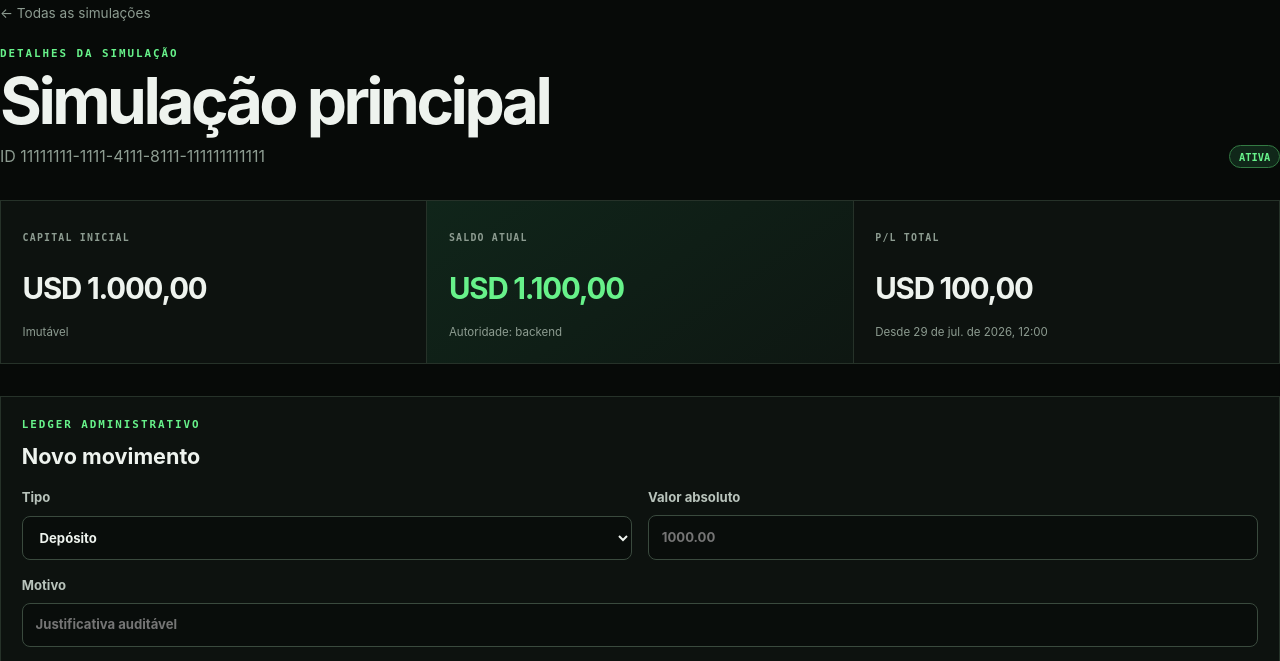
it: movimentos e encerramento › mostra erro claro para saldo insuficiente
The image size is (1280, 661).
Expected: the heading "Novo movimento" is shown, left=22, top=440, right=200, bottom=472
Select "Retirada" in the dropdown labelled "Tipo" at coordinates (327, 538), box left=22, top=516, right=632, bottom=560
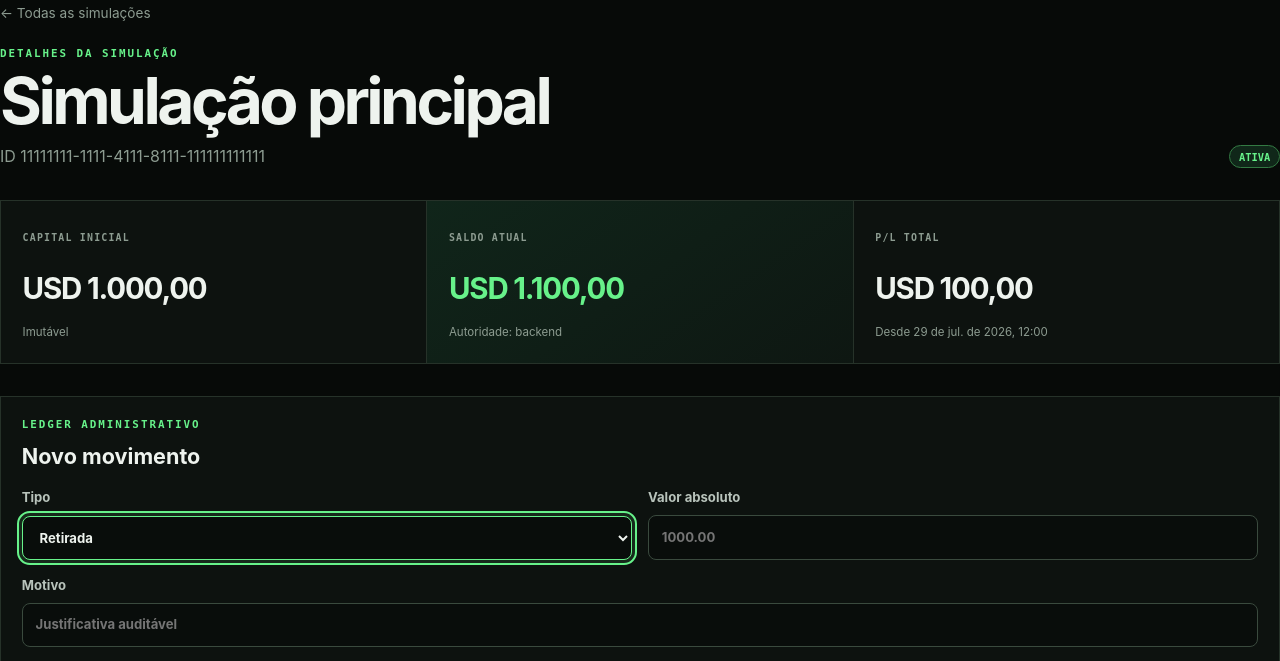
Type "9999" into the field labelled "Valor absoluto" at coordinates (953, 537), box left=648, top=515, right=1258, bottom=560
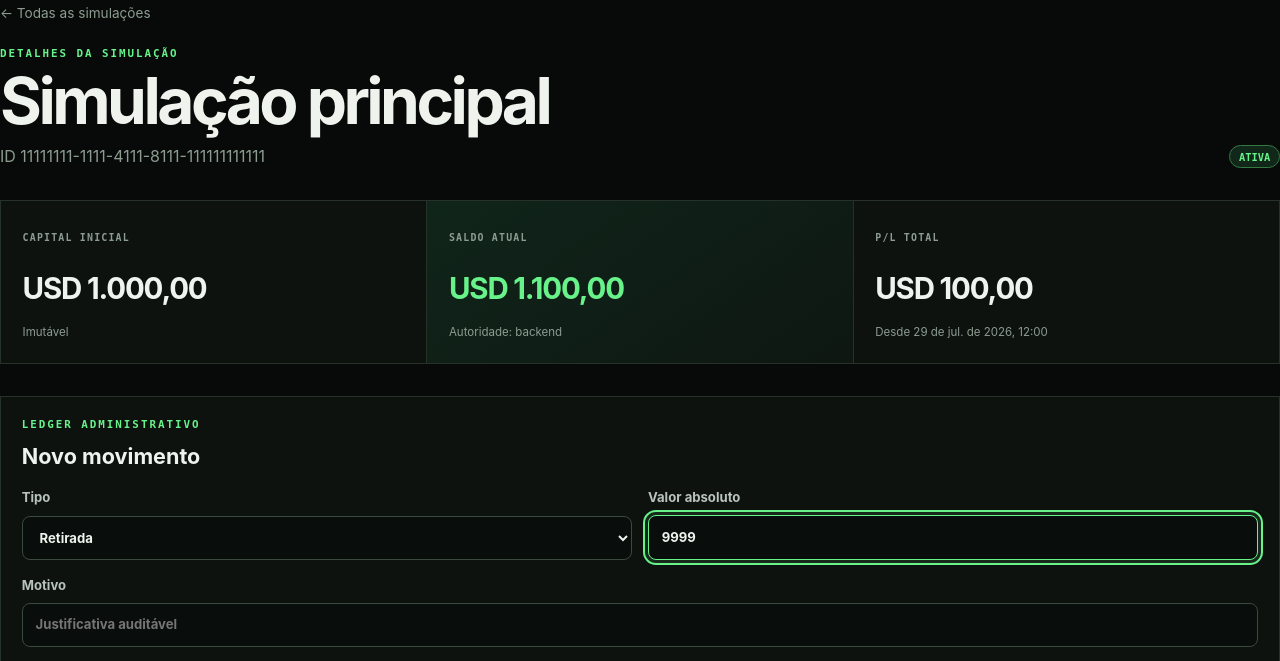
Type "Teste administrativo" into the field labelled "Motivo" at coordinates (640, 625), box left=22, top=603, right=1258, bottom=647
(page scrolled)
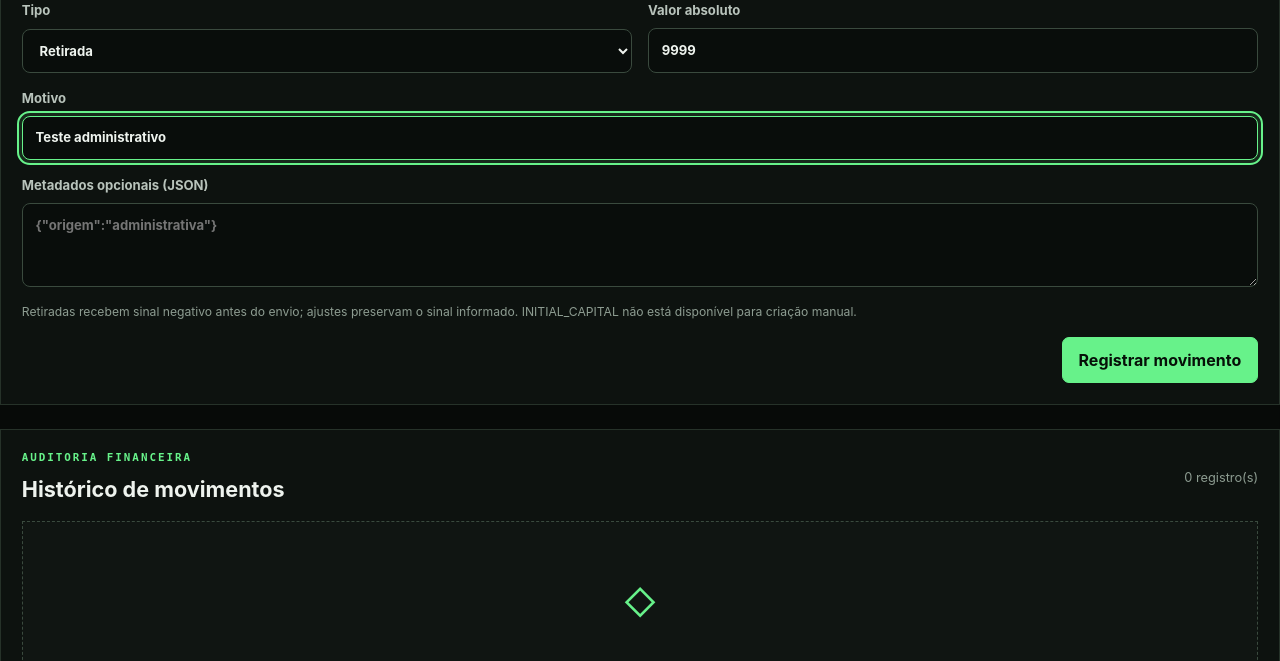
Click the button "Registrar movimento" at coordinates (1160, 360), box left=1062, top=337, right=1258, bottom=383
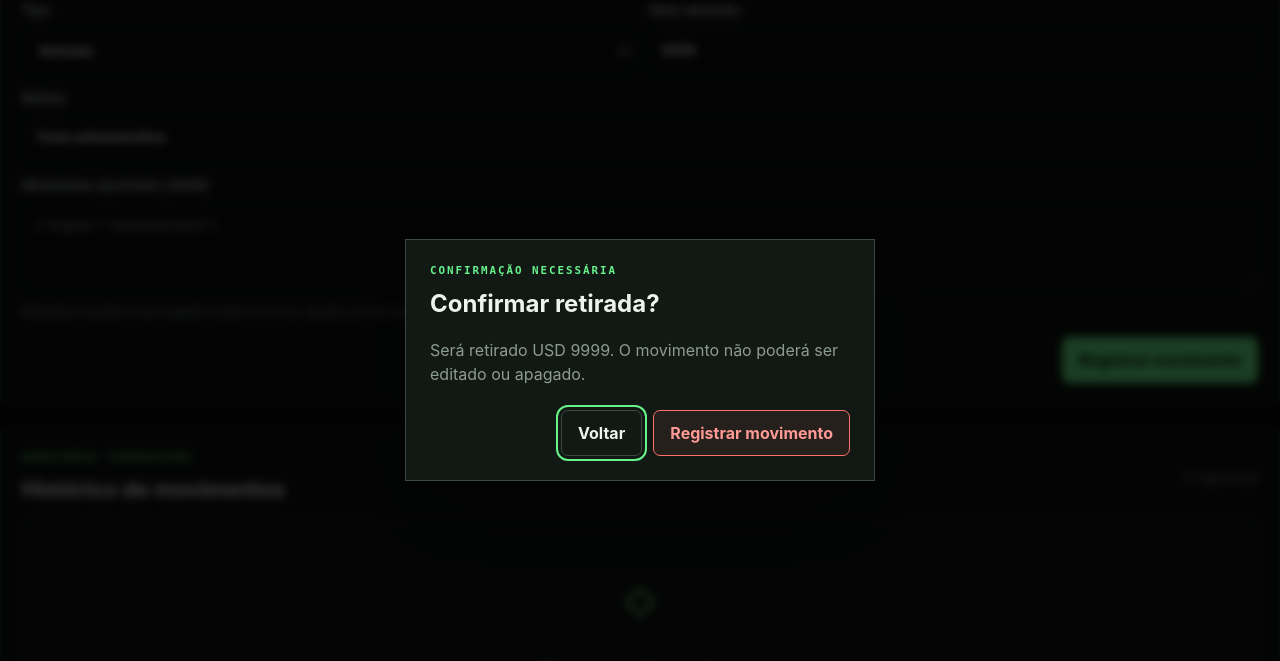
Click the button "Registrar movimento" at coordinates (752, 433), box left=653, top=410, right=850, bottom=456
(page scrolled)
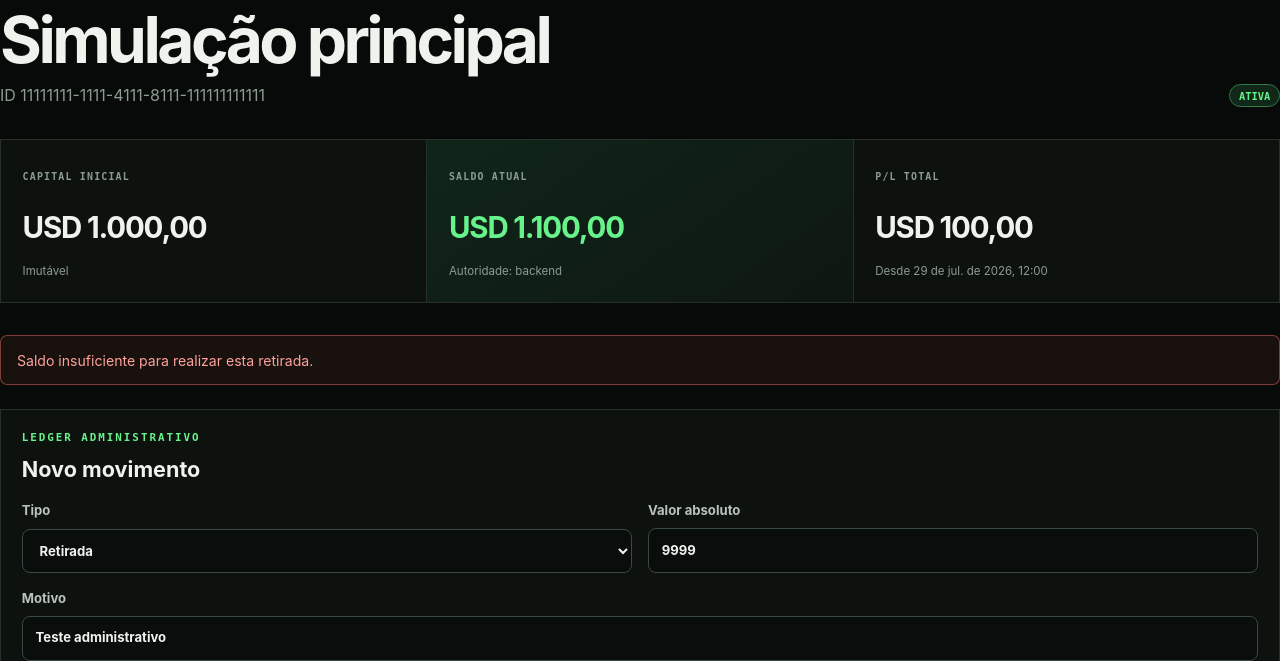
Expected: the text "Saldo insuficiente para realizar esta retirada." is shown, left=0, top=335, right=1279, bottom=385
